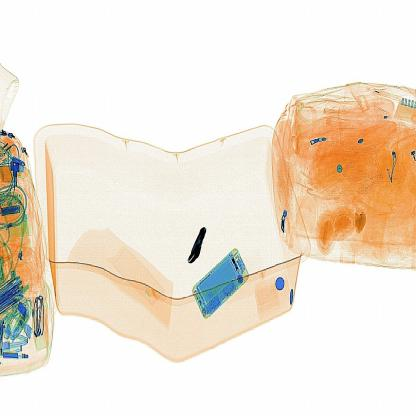knife: (182, 216, 216, 271)
